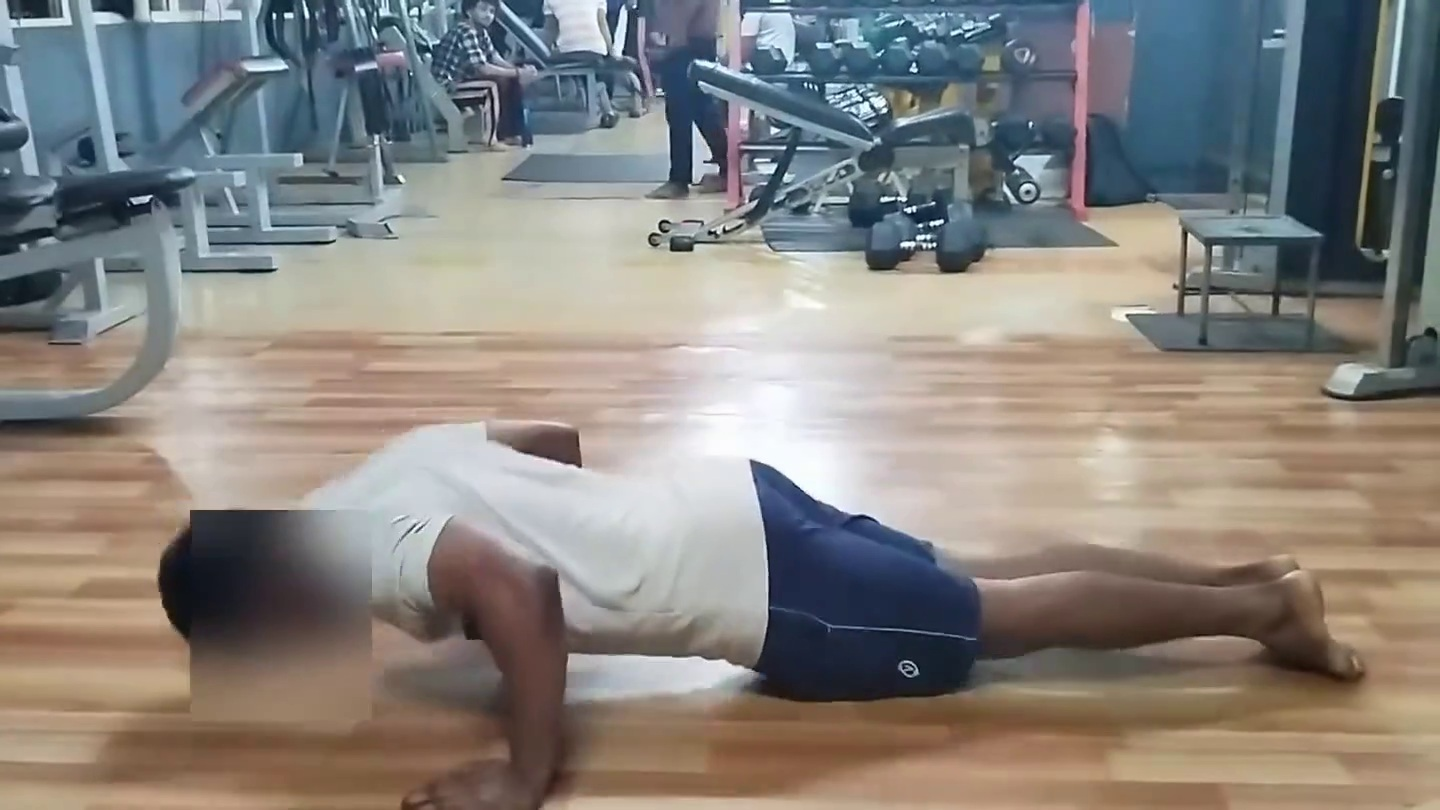push_up_correct: (145, 398, 1423, 810)
